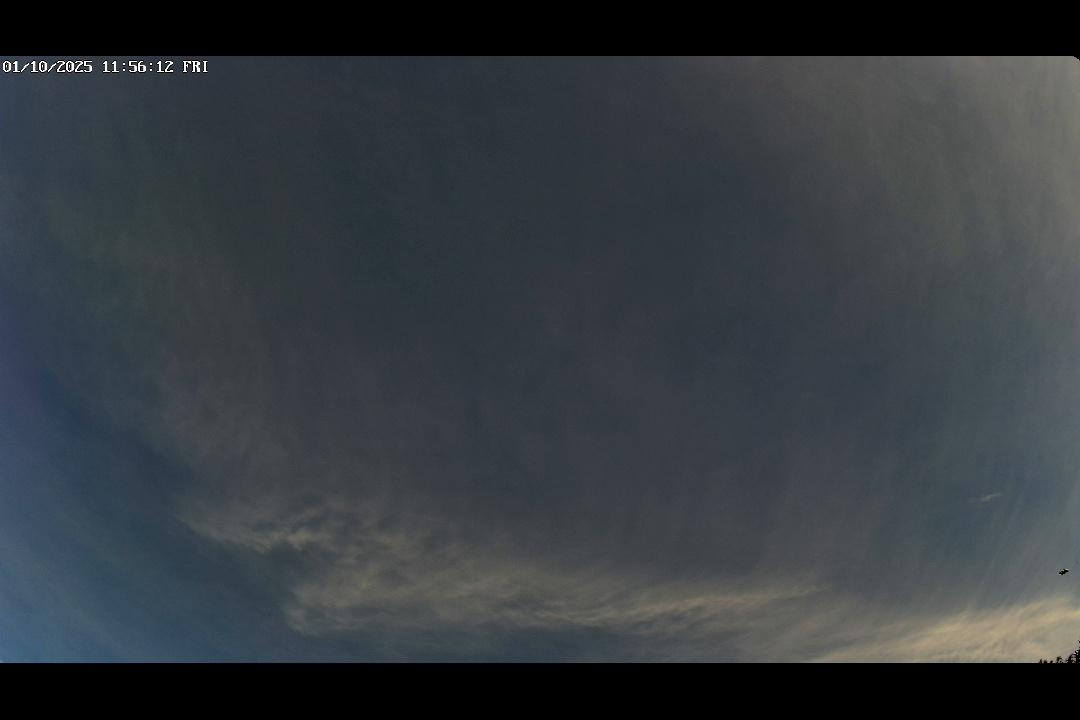WildLife: (1051, 565, 1077, 579)
